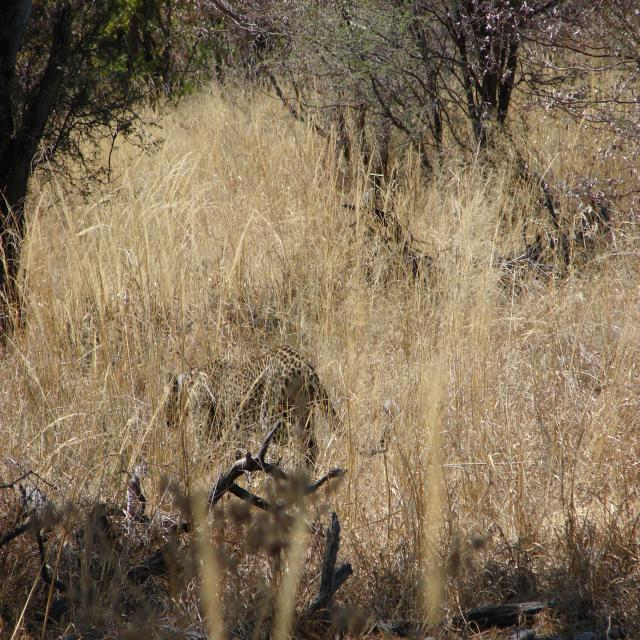Leopard: (157, 340, 396, 482)
